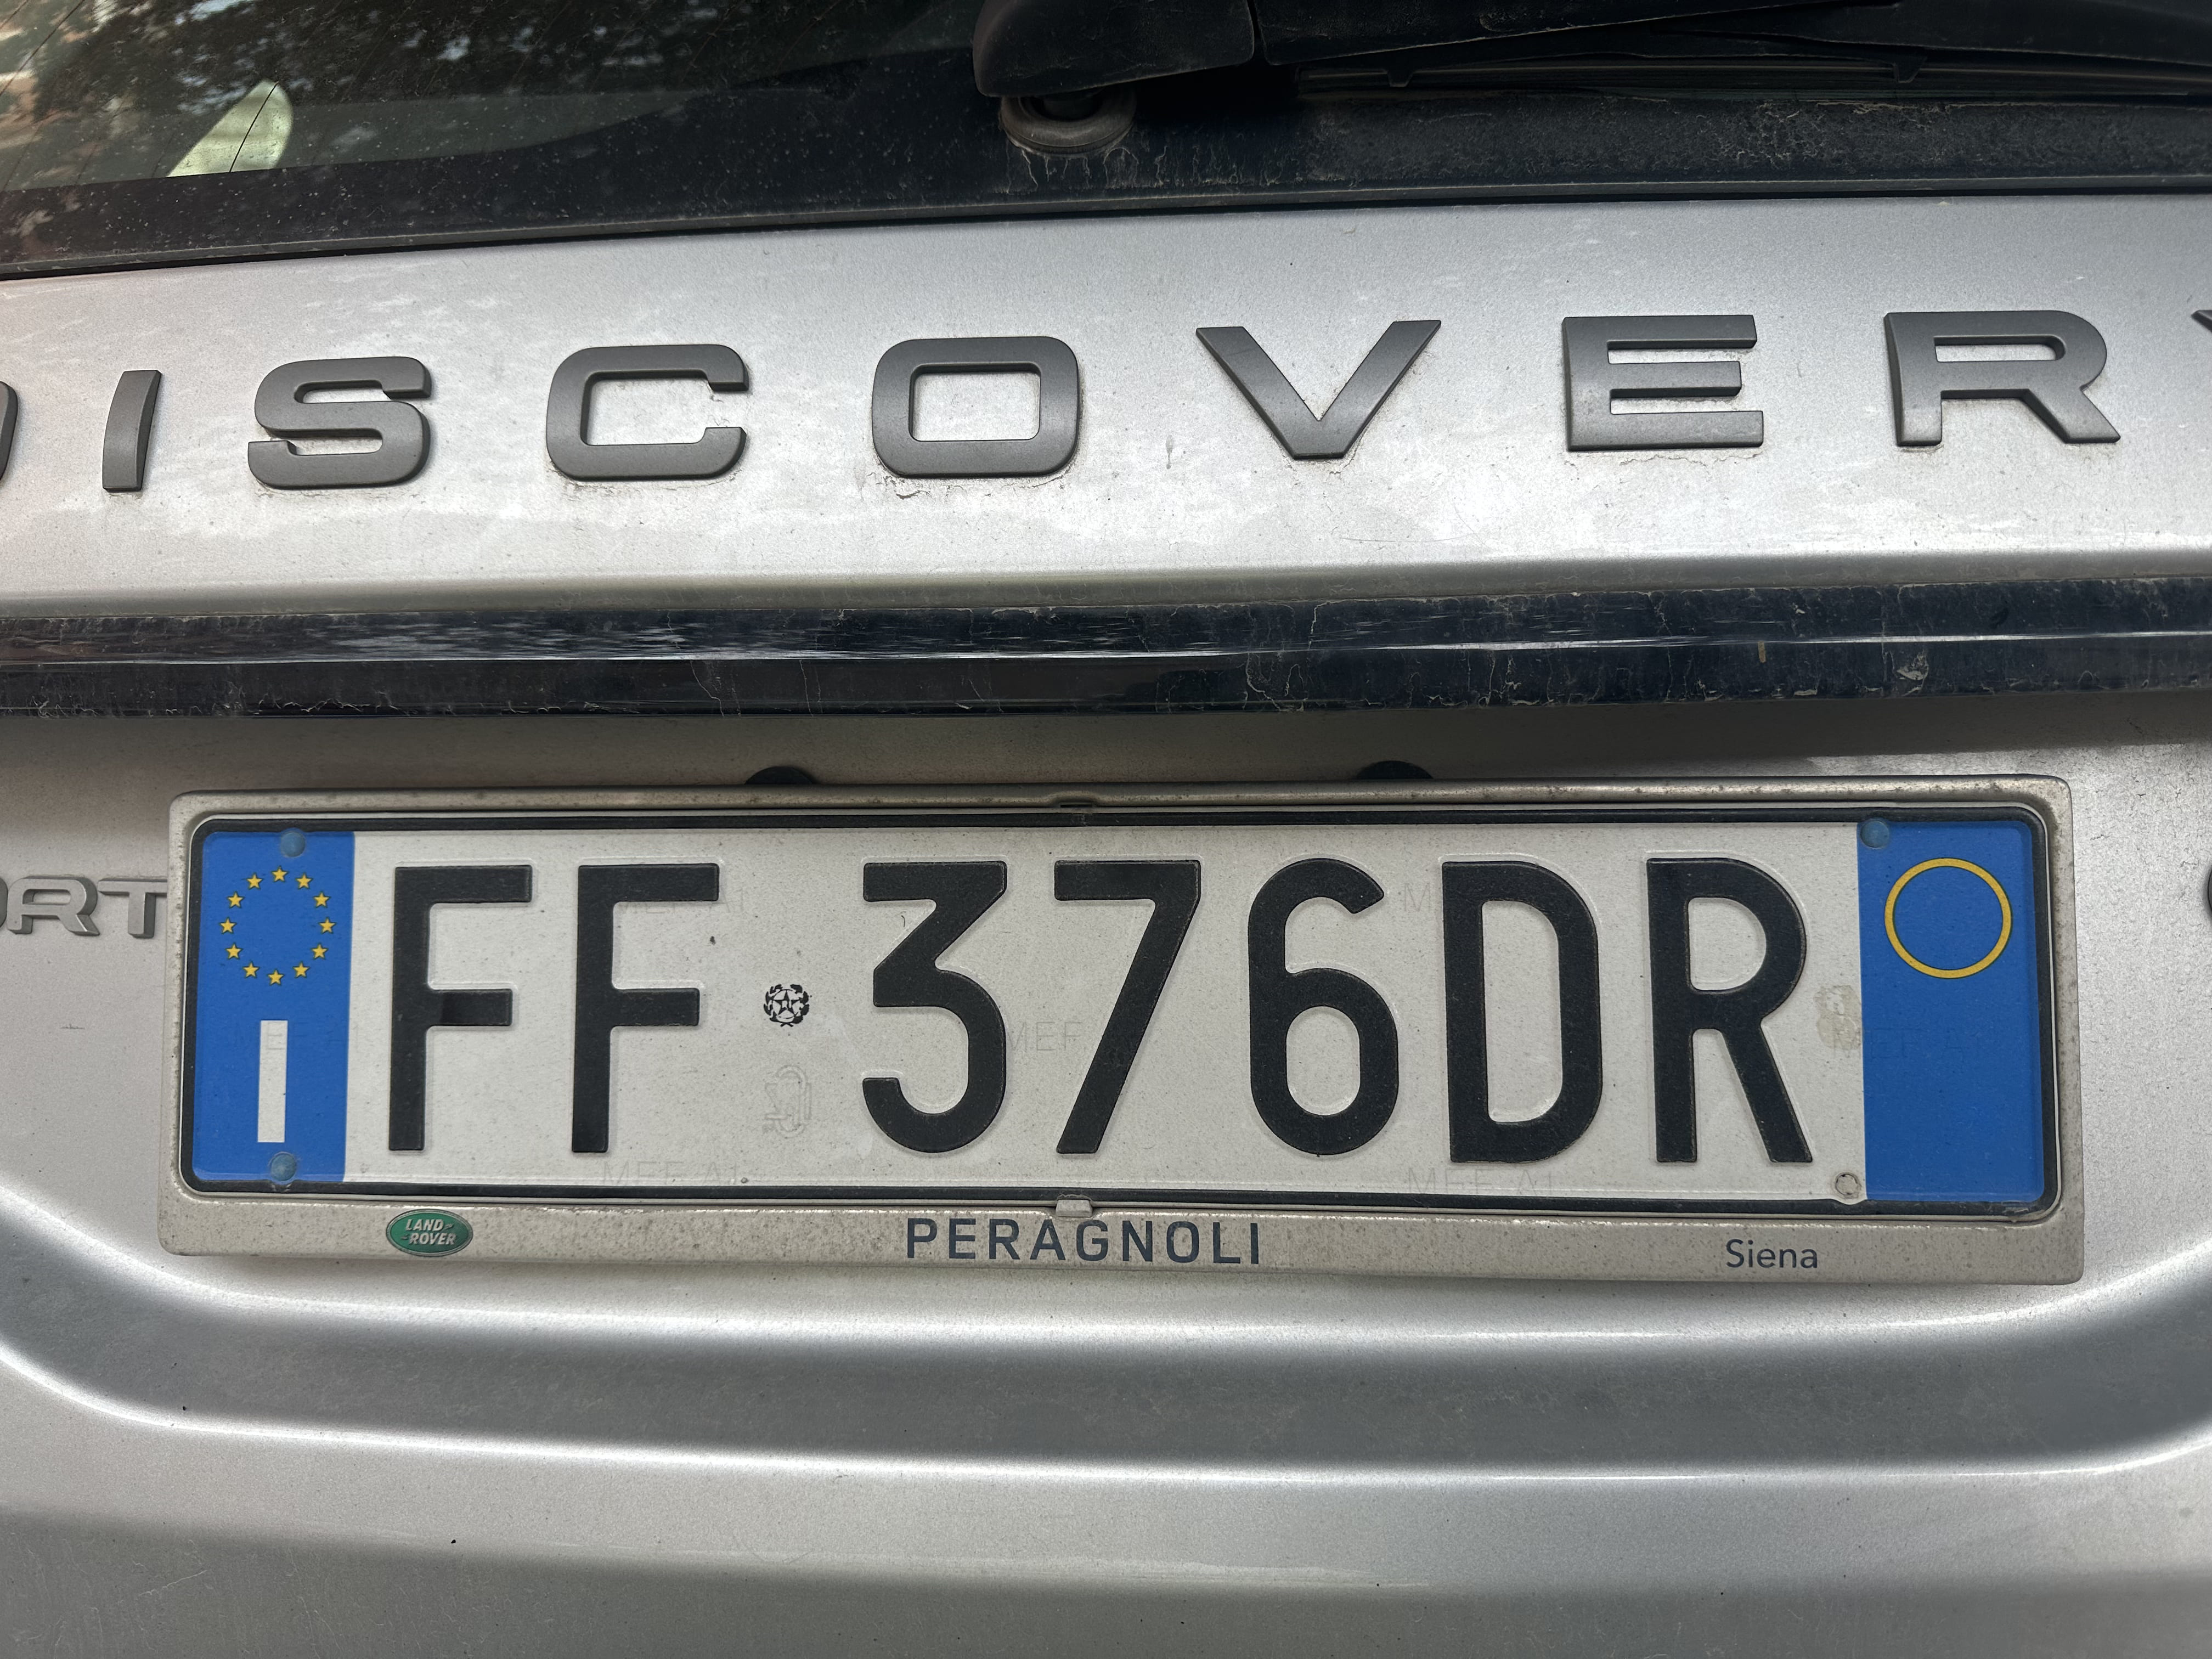license-plate: (174, 797, 2063, 1215)
